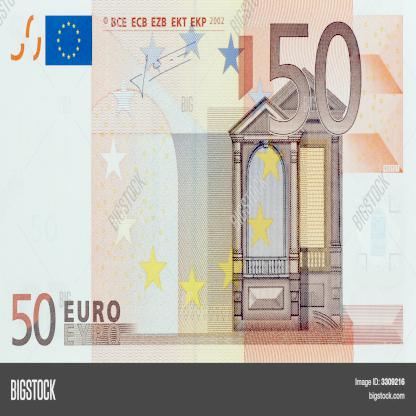euro_banknote: (1, 1, 416, 363)
